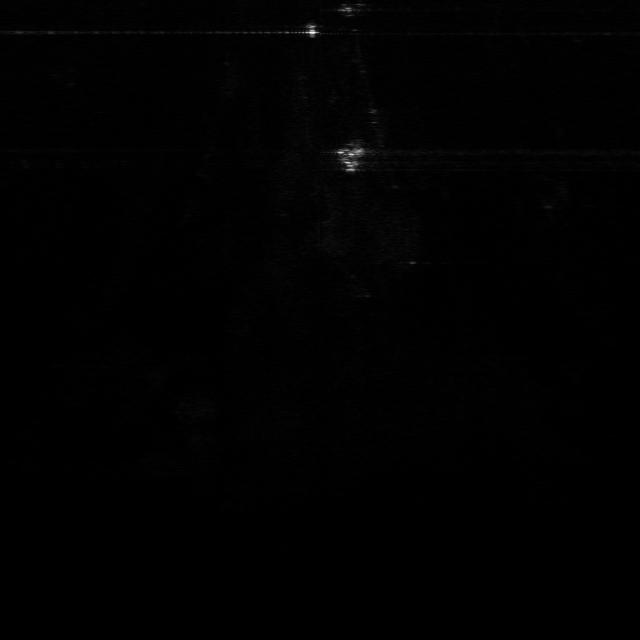rov: (334, 146, 368, 173)
